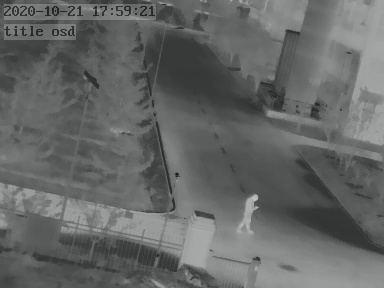person: (241, 191, 259, 234)
